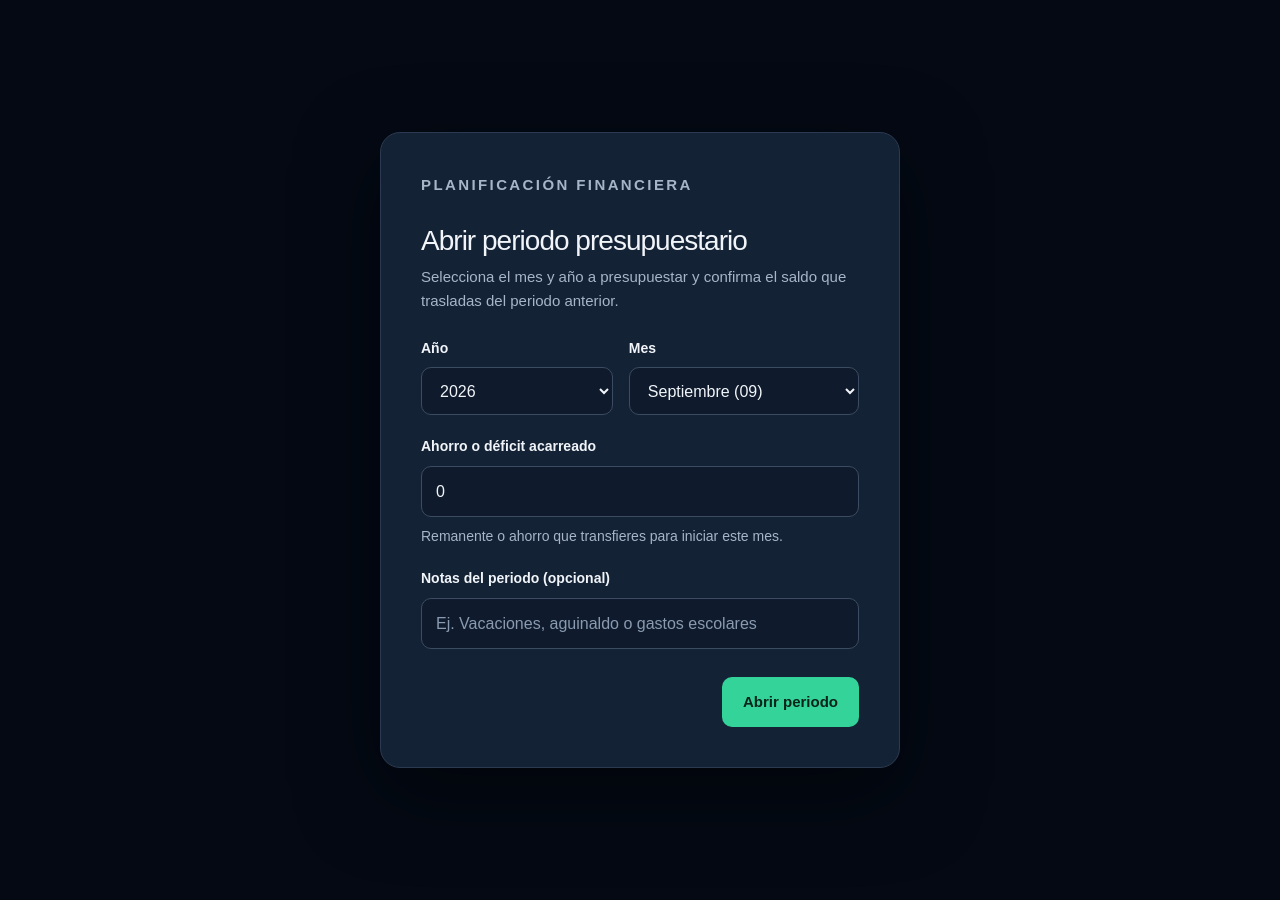
Test: InitializeMonthWizard › displays error message on failure
Click the button "Abrir periodo": (790, 702) 722,678 -> 859,728
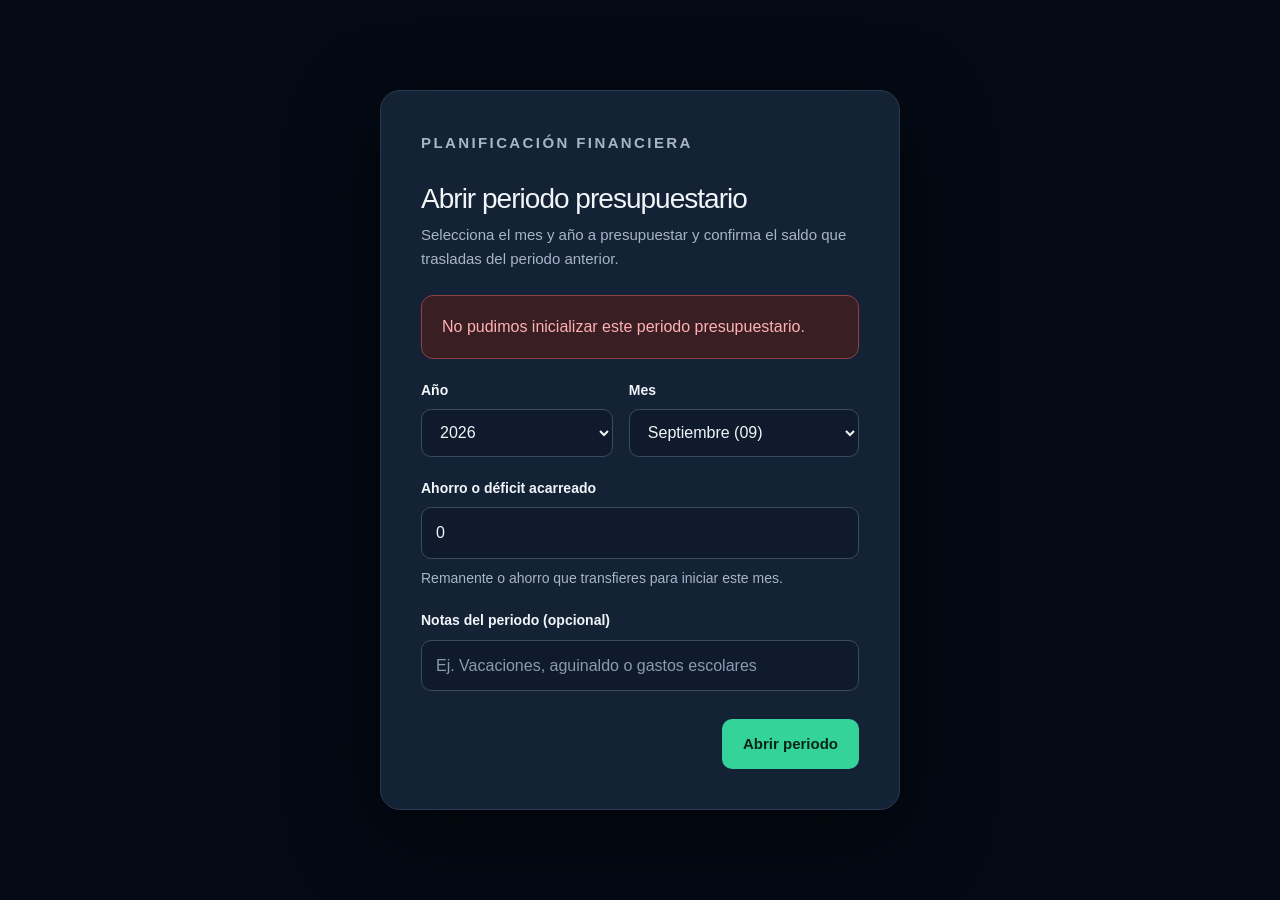
Expected: the text "No pudimos inicializar este periodo presupuestario." is shown, 442,314 -> 838,340
